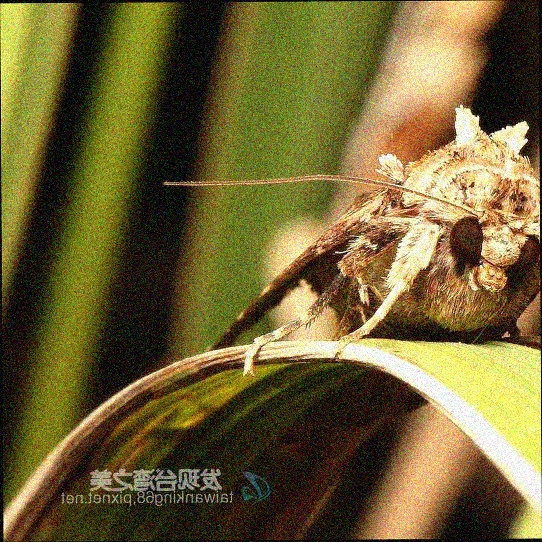Spodoptera litura: (162, 105, 540, 377)
